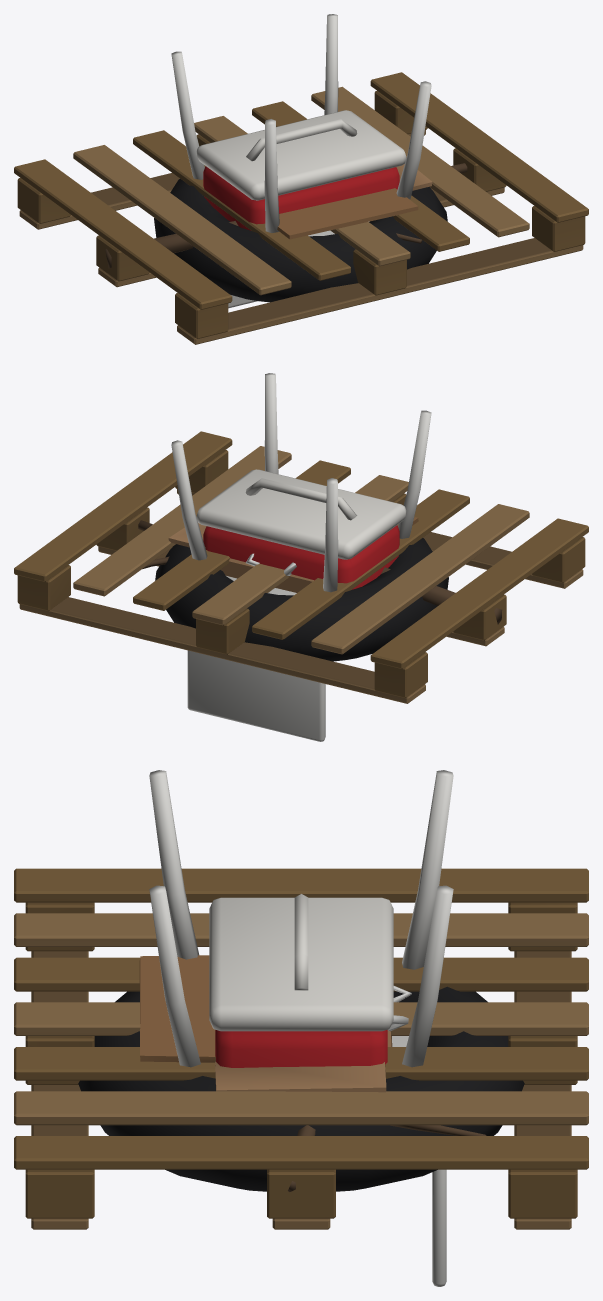
Rendered from flotantes.glb.
3 renders of one model, top to bottom at view 1: azimuth 30°, elevation 25°; view 2: azimuth 150°, elevation 25°; view 3: azimuth 270°, elevation 25°, orthographic. The views are drawn at different scales.
Parts seen in each view (by area): view 1: pallet, conservadora, cubierta, silla, caja, rama; view 2: pallet, conservadora, silla, cubierta, caja, rama; view 3: pallet, conservadora, silla, cubierta, caja, rama.
Part boxes in pixels (x1=…): pallet: x1=14, y1=72, x2=588, y2=344; conservadora: x1=196, y1=110, x2=406, y2=230; cubierta: x1=154, y1=179, x2=447, y2=302; silla: x1=171, y1=14, x2=431, y2=308; caja: x1=277, y1=164, x2=432, y2=239; rama: x1=105, y1=163, x2=467, y2=268; pallet: x1=14, y1=431, x2=588, y2=703; conservadora: x1=196, y1=469, x2=406, y2=589; silla: x1=171, y1=373, x2=431, y2=741; cubierta: x1=155, y1=538, x2=448, y2=661; caja: x1=168, y1=517, x2=418, y2=592; rama: x1=138, y1=520, x2=502, y2=624; pallet: x1=14, y1=868, x2=588, y2=1229; conservadora: x1=209, y1=894, x2=393, y2=1067; silla: x1=149, y1=770, x2=453, y2=1286; cubierta: x1=78, y1=986, x2=524, y2=1191; caja: x1=139, y1=955, x2=392, y2=1092; rama: x1=288, y1=1125, x2=486, y2=1191.
Bounding box in the file's own units: 1.21 × 0.7826 × 1.
